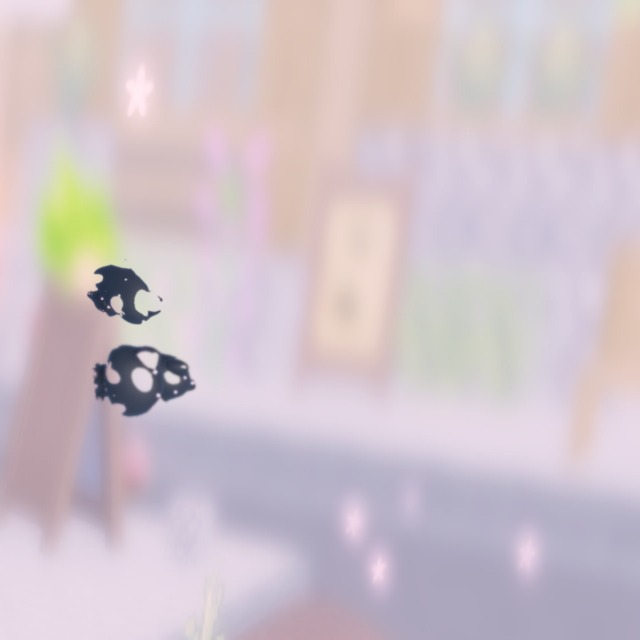urso_preto: (64, 237, 184, 353), (90, 333, 206, 428)
